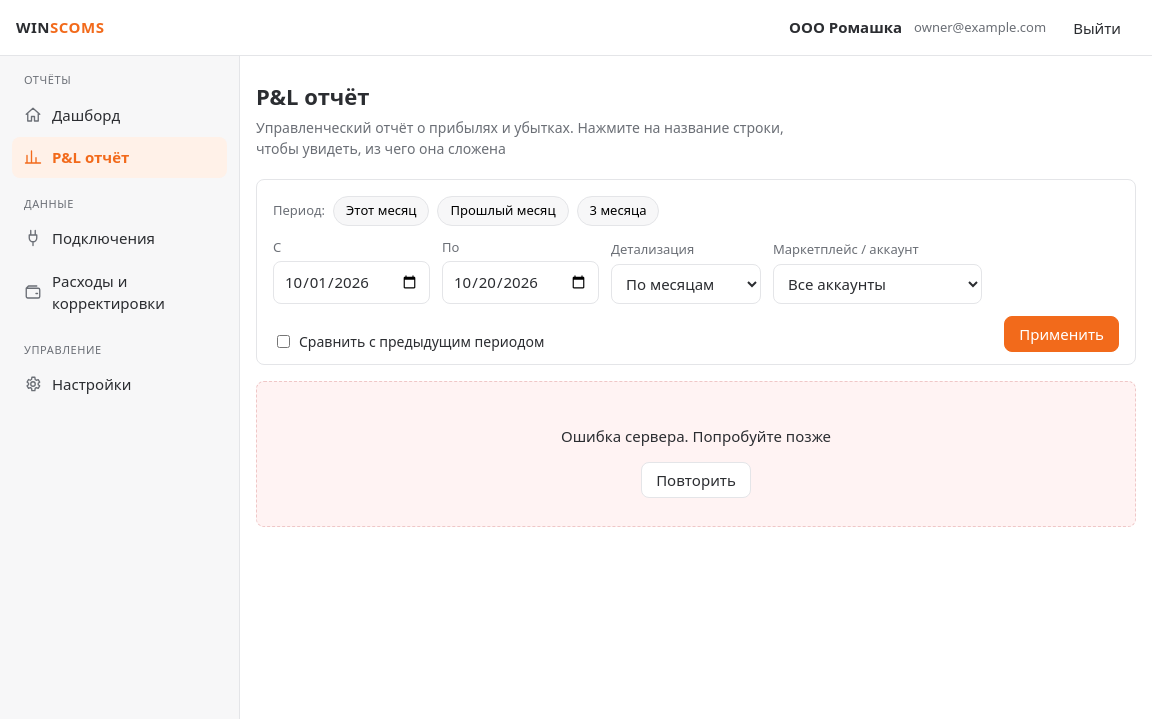
Test case: страница P&L › ошибка сервера показывается с кнопкой «Повторить»
expect the message shows "Ошибка сервера": met, box [561,426,831,446]
Click the button "Повторить".
click(696, 480)  # box [641,462,751,498]
(page scrolled)
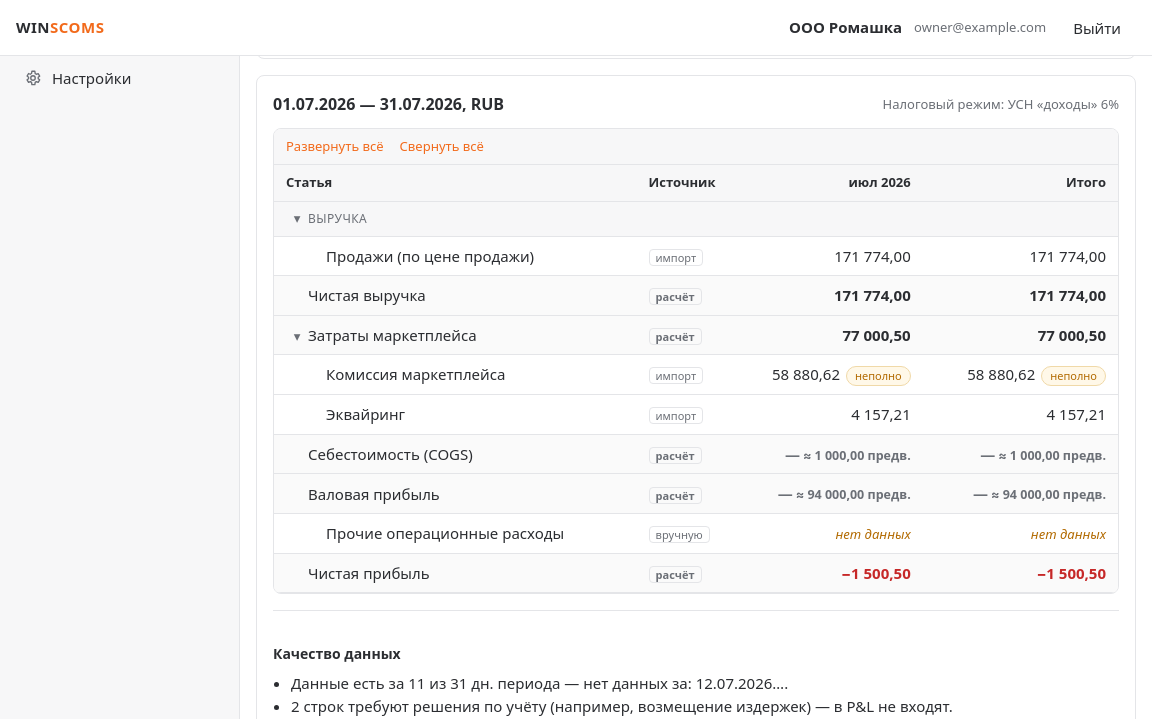
expect the element named "Таблица P&L" is shown: met, box [273,128,1119,594]
